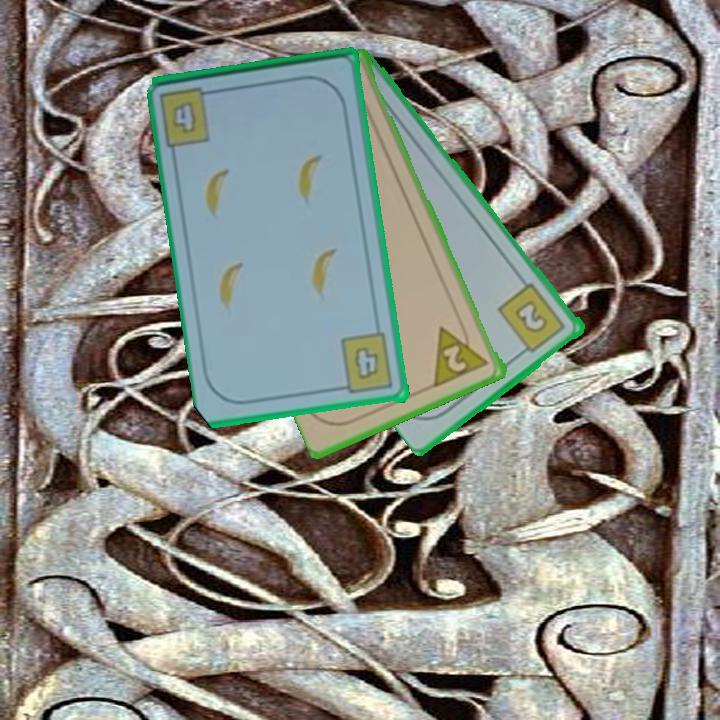2b: (495, 279, 569, 359)
2p: (430, 317, 492, 390)
4b: (156, 83, 222, 150), (334, 330, 396, 397)
